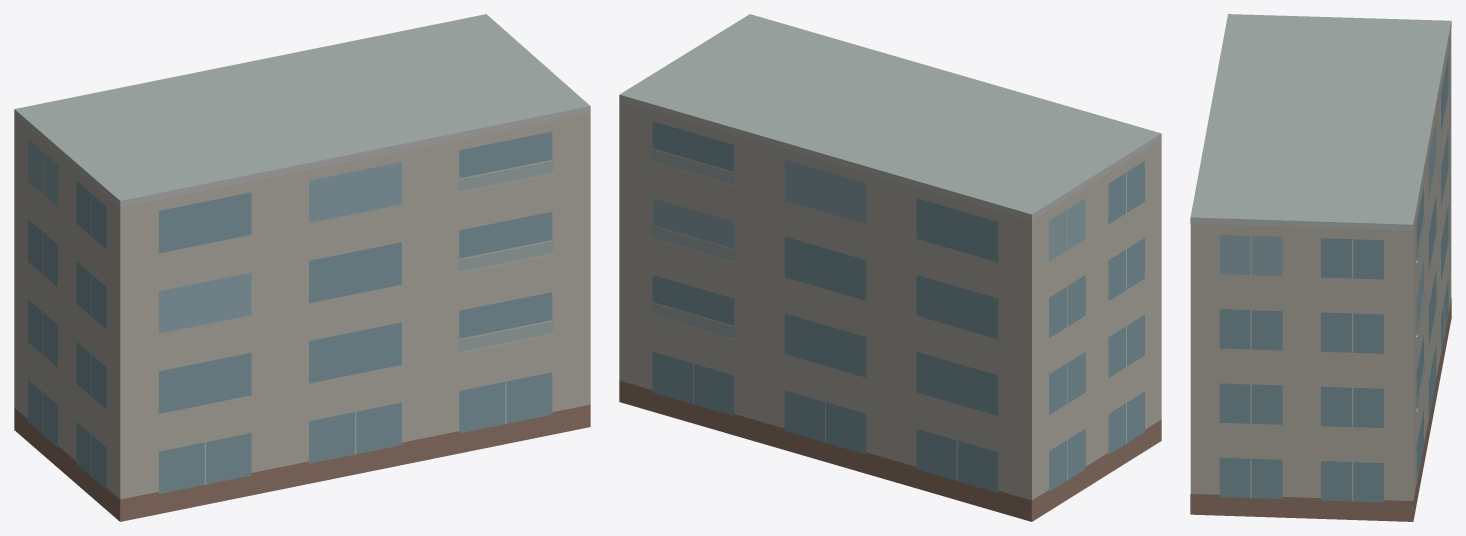
The model's file is survey-upis-32921548.glb.
The picture shows the model from 3 angles, left to right: view 1: azimuth 30°, elevation 25°; view 2: azimuth 150°, elevation 25°; view 3: azimuth 270°, elevation 25°; orthographic projection. The views are drawn at different scales.
Parts seen in each view (by area): view 1: survey-upis-32921548.tmp; view 2: survey-upis-32921548.tmp; view 3: survey-upis-32921548.tmp.
Part boxes in pixels (box(x1,y1,x2,y2)): survey-upis-32921548.tmp: box(14, 14, 590, 521); survey-upis-32921548.tmp: box(619, 14, 1161, 521); survey-upis-32921548.tmp: box(1190, 14, 1451, 521).
Size of the model in its own units: 17.72 by 11.65 by 9.28.
